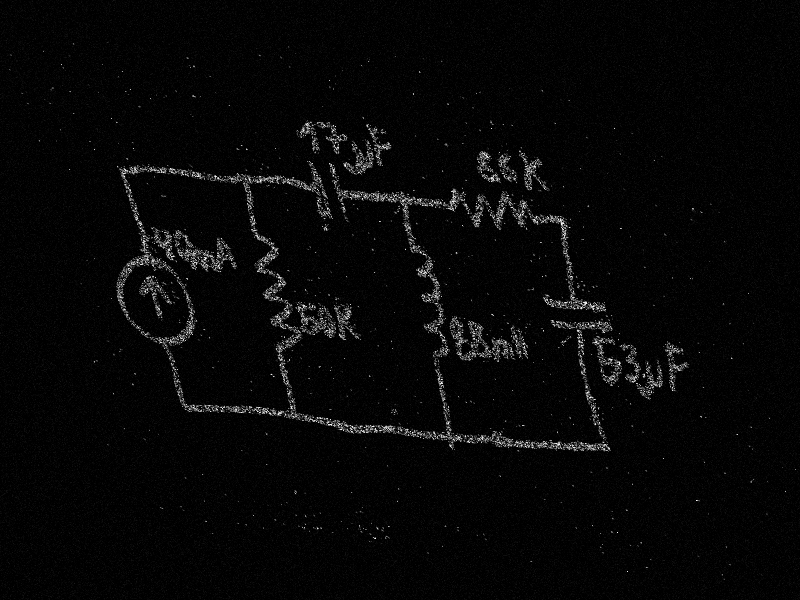0: (171, 228, 196, 265), (315, 306, 340, 339)
1: (289, 116, 324, 159)
3: (615, 342, 646, 386)
4: (149, 225, 179, 263)
5: (589, 336, 628, 389), (293, 300, 324, 337)
6: (494, 150, 521, 184)
7: (314, 119, 353, 158)
8: (445, 314, 480, 364), (465, 319, 494, 362), (471, 149, 502, 186)
A: (209, 234, 241, 275)
F: (658, 340, 697, 393), (365, 125, 399, 170)
H: (508, 325, 532, 362)
k: (516, 148, 552, 194), (330, 303, 362, 343)
m: (188, 247, 219, 273), (488, 337, 518, 362)
u: (347, 139, 380, 179), (640, 359, 670, 395)
